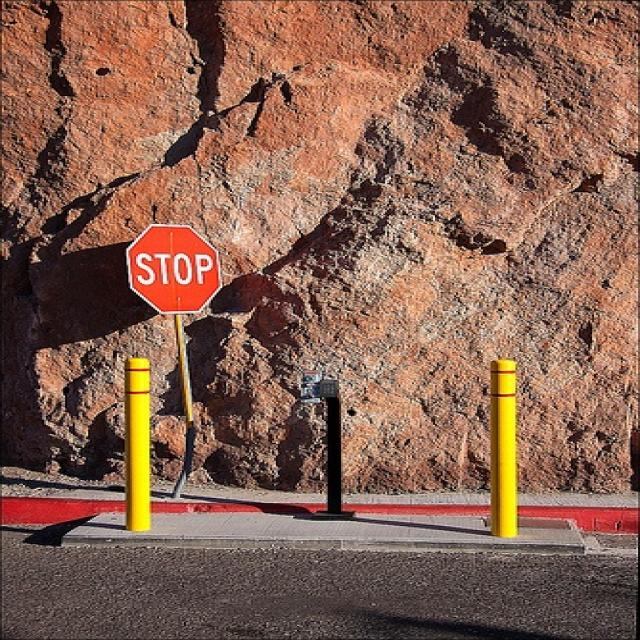pole: (171, 310, 205, 498)
warning_column: (115, 354, 171, 534), (479, 355, 527, 535)
